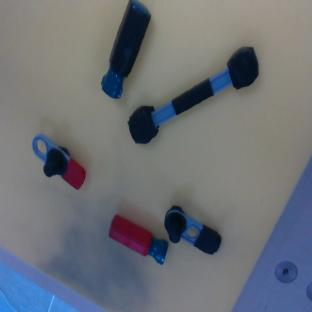part_1_bad: (155, 203, 226, 266)
part_1_good: (20, 131, 94, 193)
part_2_good: (104, 213, 173, 266)
part_3_bad: (120, 42, 268, 148)
